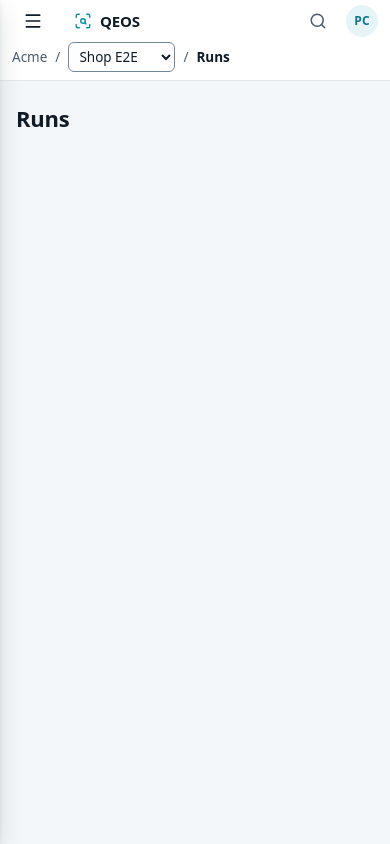
Test: mobile drawer › Escape closes the open drawer even when focus is outside it
Click the button named "open navigation": (33, 21) x1=12 y1=4 x2=54 y2=38
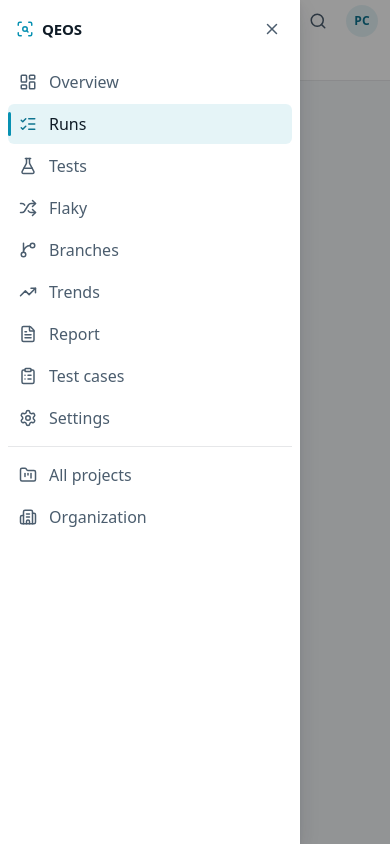
Press Escape
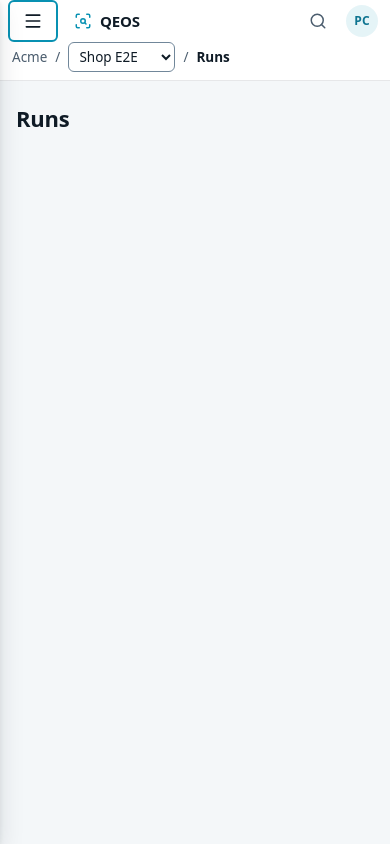
Check: the button named "open navigation" is collapsed, box x1=12 y1=4 x2=54 y2=38
